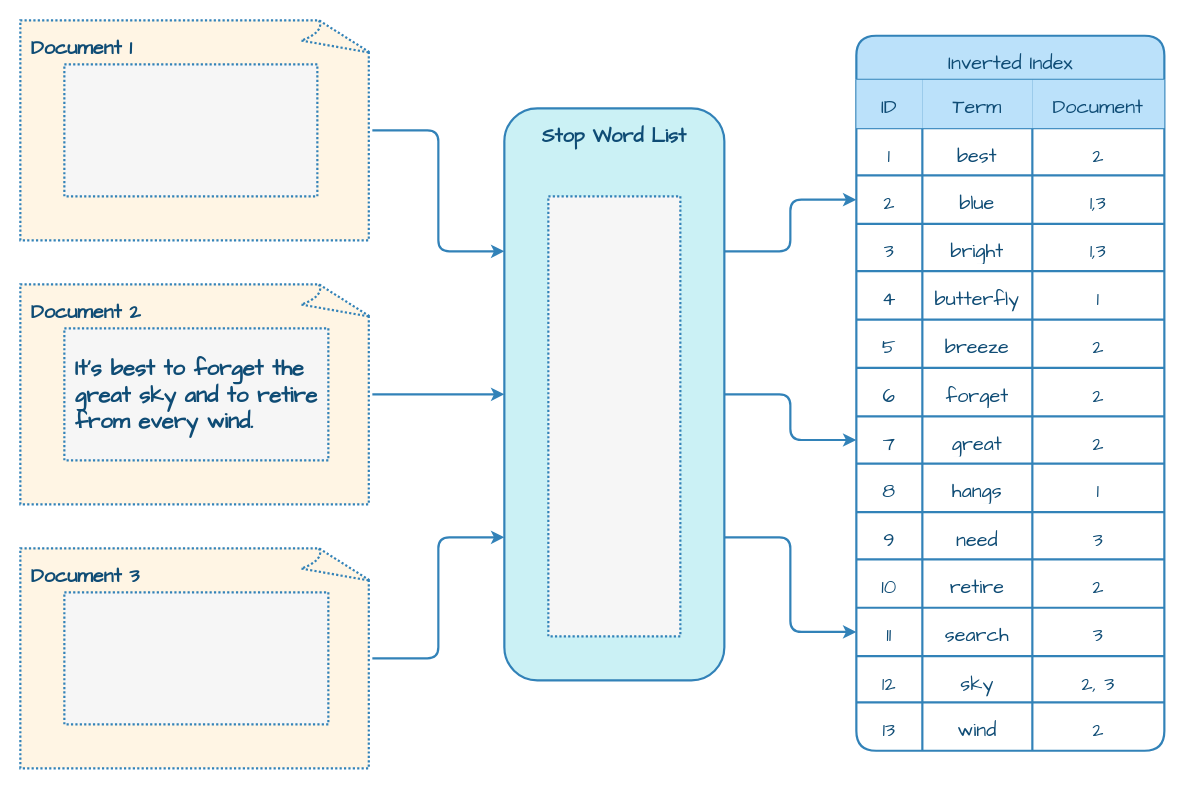
Some shapes in this 1184 by 788 pixel diagram are drawn without their labels. Here are the shapes that lost their labels. From the top down, the centre of each, then its label:
(x=190, y=130): The bright blue butterfly hangs on the breeze.
(x=614, y=416): a and around every for from in is it not no one the ...
(x=196, y=658): Under blue sky, in bright sunlight, one need not search around.
